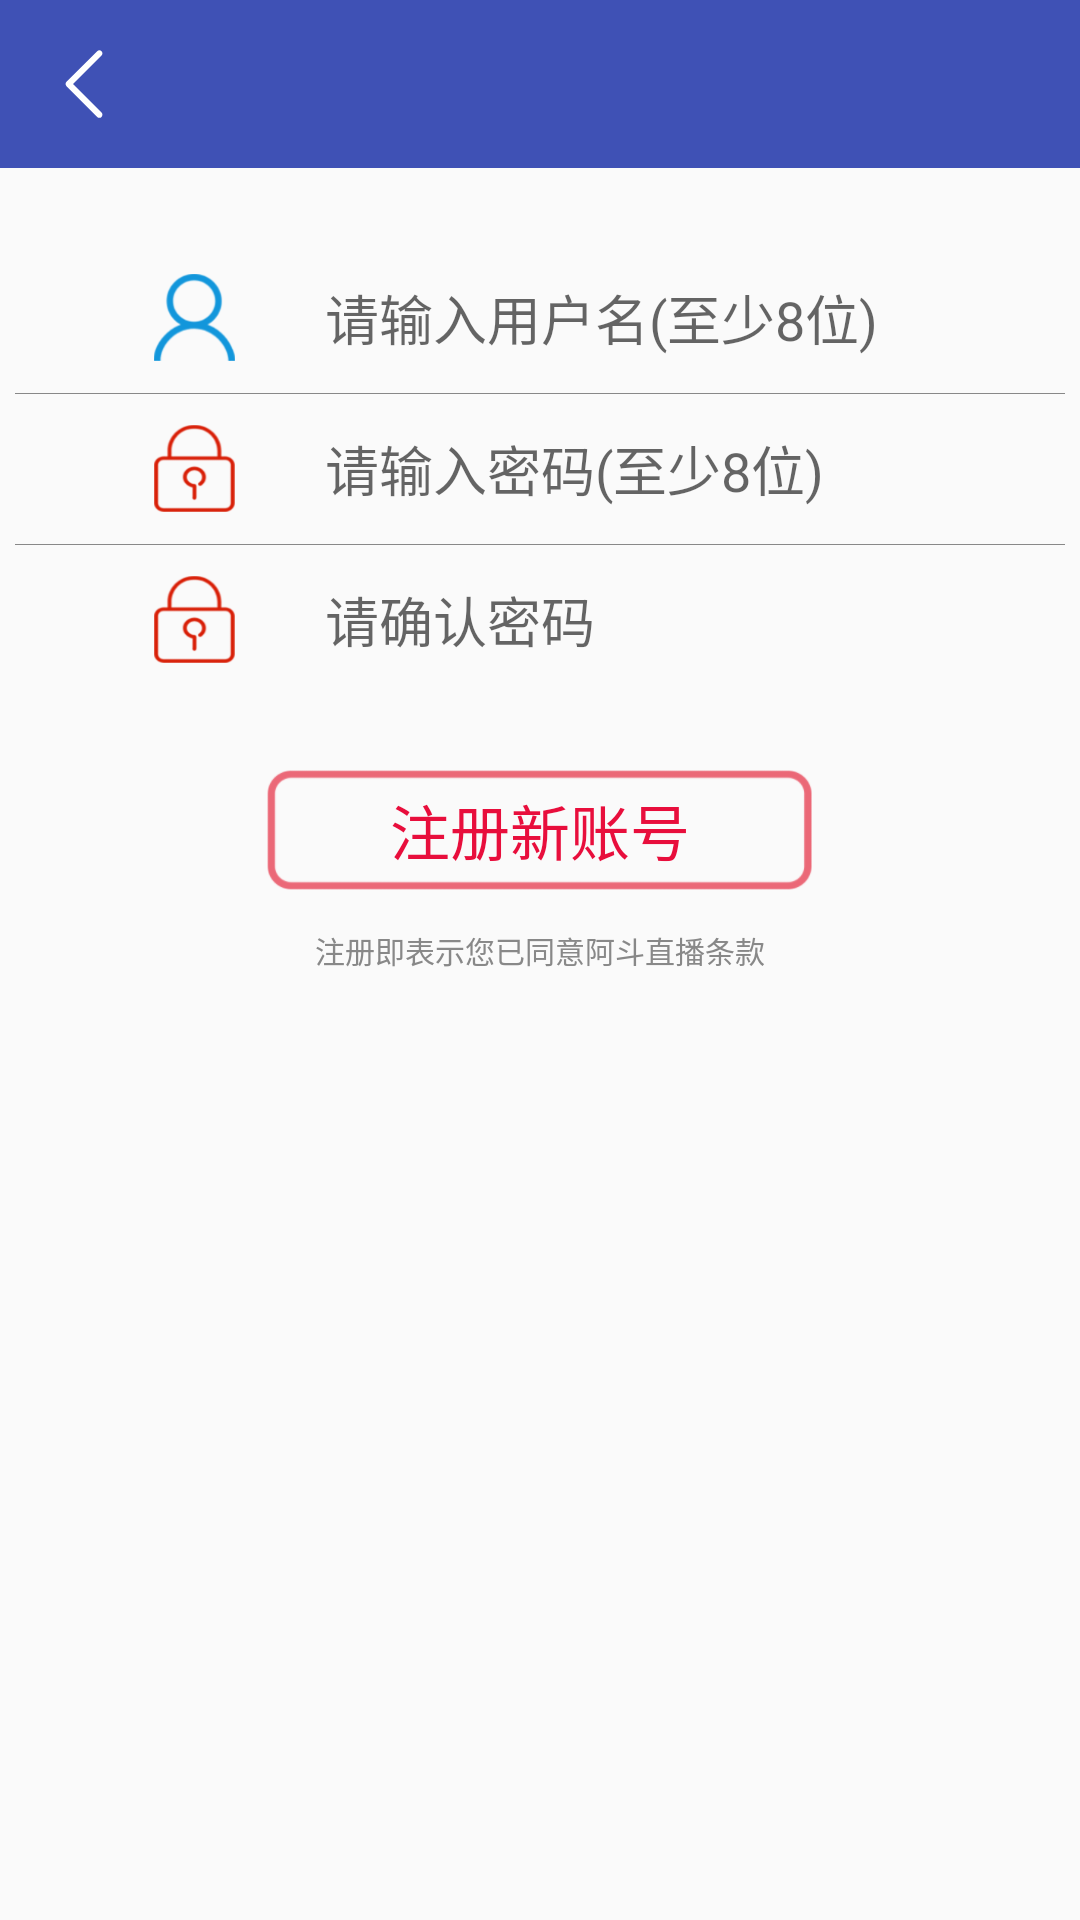

Icon bounding boxes for this 1080×1920 phone screenshot, format (x1, y1, x2, y2):
acount: (154, 274, 235, 361)
pass: (154, 425, 235, 512), (154, 576, 235, 663)
